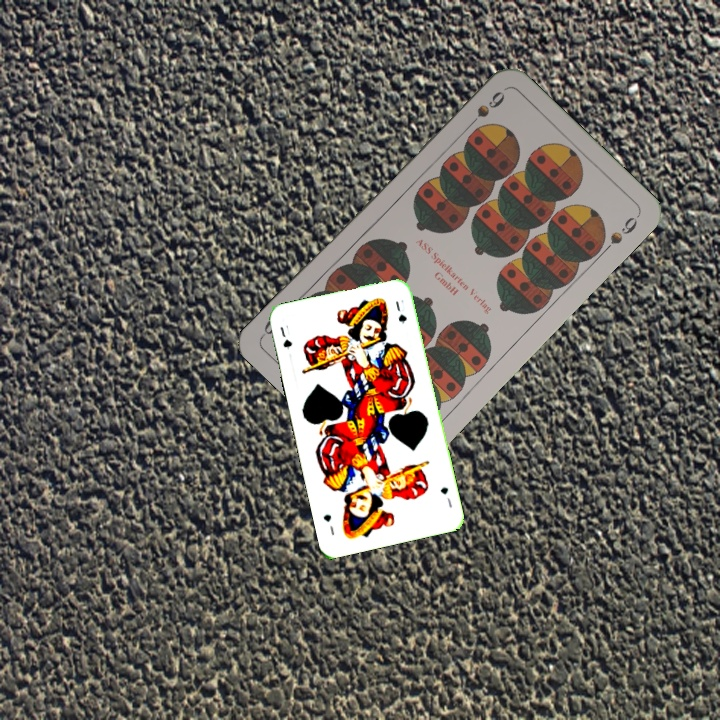GU: (276, 321, 295, 352), (437, 483, 455, 510)
S9: (461, 87, 508, 133)
